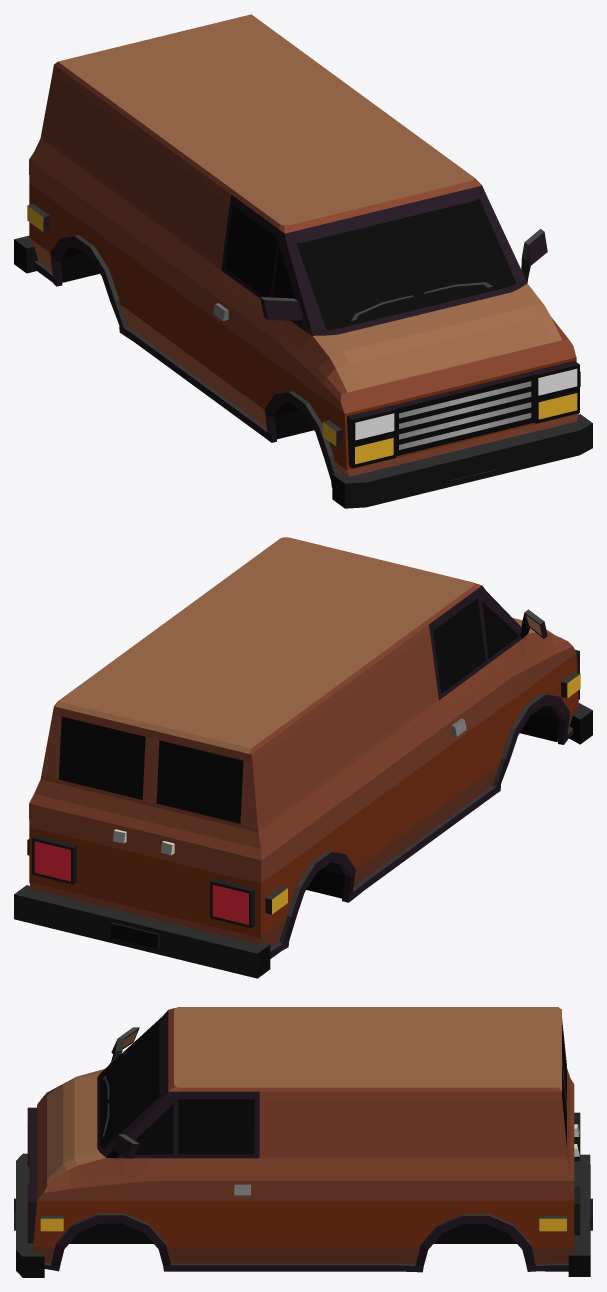
File: Van.006.fbx
The picture shows the model from 3 angles, top to bottom: view 1: azimuth 30°, elevation 25°; view 2: azimuth 150°, elevation 25°; view 3: azimuth 270°, elevation 25°; orthographic projection. The views are drawn at different scales.
Parts seen in each view (by area): view 1: Van.006; view 2: Van.006; view 3: Van.006.
Part boxes in pixels (x1=…): Van.006: x1=14, y1=14, x2=592, y2=508; Van.006: x1=14, y1=537, x2=592, y2=978; Van.006: x1=14, y1=1007, x2=592, y2=1277.
Bounding box in the file's own units: 1.92 × 1.38 × 4.03.
